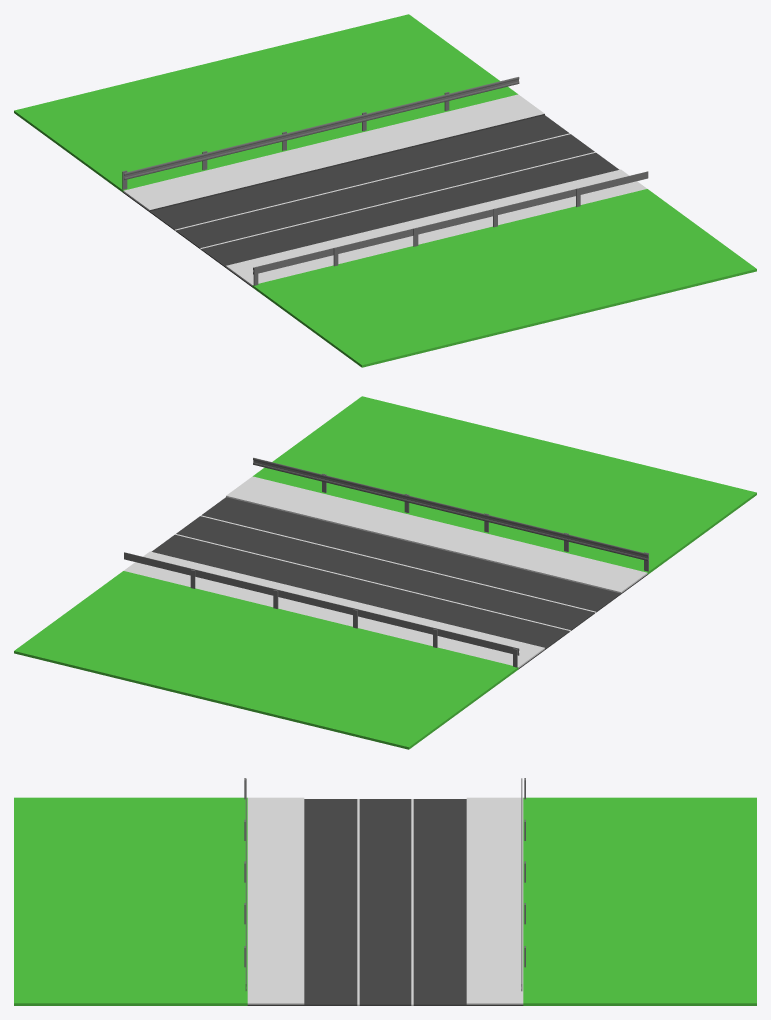
The model's file is road.fbx.
The picture shows the model from 3 angles, top to bottom: view 1: azimuth 30°, elevation 25°; view 2: azimuth 150°, elevation 25°; view 3: azimuth 270°, elevation 25°; orthographic projection. The views are drawn at different scales.
Parts seen in each view (by area): view 1: Plane, Cube, Cube.009; view 2: Plane, Cube, Cube.009; view 3: Plane, Cube, Cube.009.
Boxes of the visible parts, x1,y1,x2,y2 form: Plane: (14, 14, 756, 367); Cube: (122, 77, 519, 189); Cube.009: (253, 171, 648, 285); Plane: (14, 396, 756, 749); Cube: (124, 552, 519, 667); Cube.009: (253, 457, 648, 571); Plane: (14, 797, 756, 1005); Cube: (521, 778, 525, 991); Cube.009: (244, 778, 246, 990).
Bounding box in the file's own units: 3670 × 184 × 5601.
